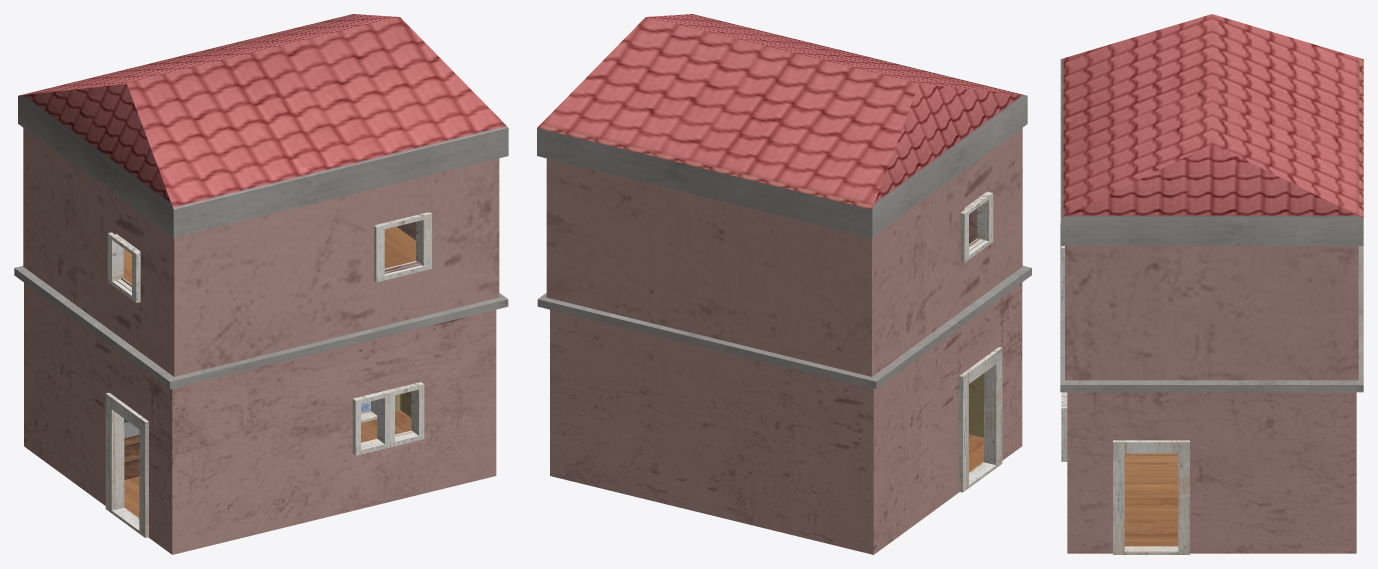
File: second floor house ver2.FBX
The picture shows the model from 3 angles, left to right: view 1: azimuth 30°, elevation 25°; view 2: azimuth 150°, elevation 25°; view 3: azimuth 270°, elevation 25°; orthographic projection. The views are drawn at different scales.
Parts seen in each view (by area): view 1: second floor house ver2; view 2: second floor house ver2; view 3: second floor house ver2.
Part boxes in pixels (left/top/right/bottom): second floor house ver2: left=14, top=14, right=508, bottom=554; second floor house ver2: left=537, top=14, right=1031, bottom=554; second floor house ver2: left=1060, top=14, right=1363, bottom=554.
Size of the model in its own units: 589 by 680 by 469.
